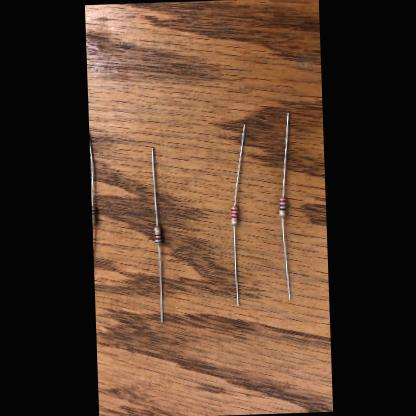resistor: (278, 197, 286, 216), (153, 226, 161, 244), (230, 206, 237, 224), (91, 206, 95, 224)
wire: (230, 124, 247, 204), (278, 112, 290, 195), (280, 218, 290, 299), (150, 146, 157, 226), (232, 225, 238, 305), (88, 131, 94, 205), (156, 245, 161, 321)
